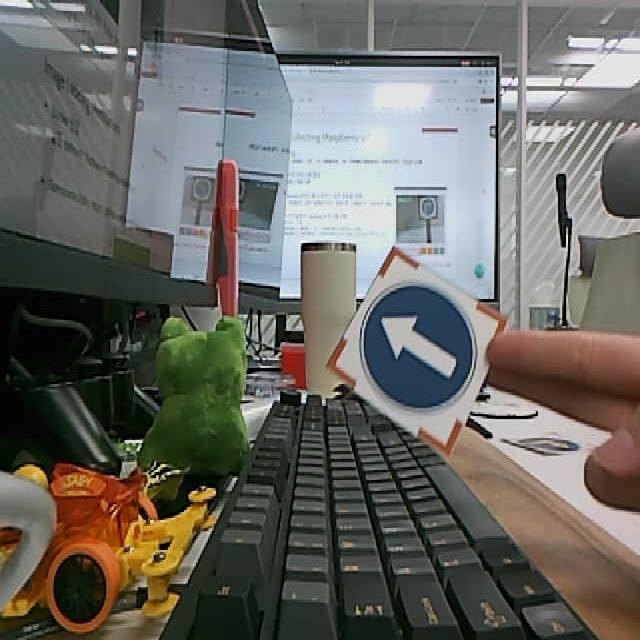straight: (327, 246, 507, 458)
